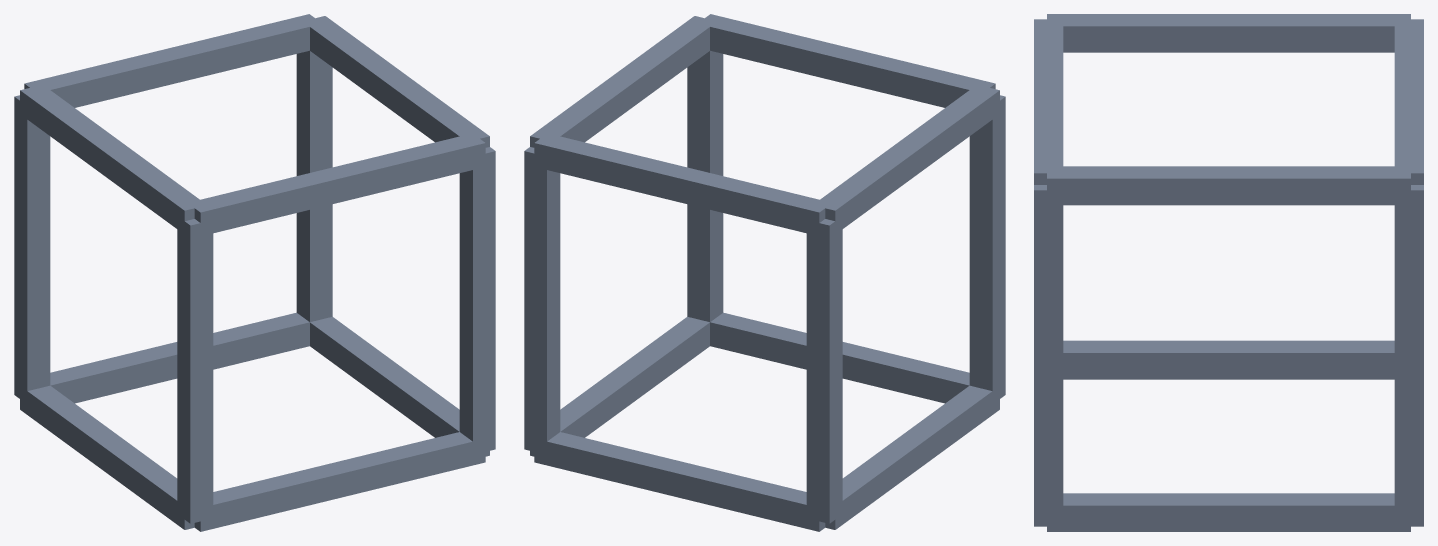
Rendered from chain_lock_cage.glb.
3 renders of one model, left to right at view 1: azimuth 30°, elevation 25°; view 2: azimuth 150°, elevation 25°; view 3: azimuth 270°, elevation 25°, orthographic. The views are drawn at different scales.
Visible parts, largest first — view 1: ChainLockCage; view 2: ChainLockCage; view 3: ChainLockCage.
Boxes of the visible parts, <box> form: ChainLockCage: <box>14,14,495,531</box>; ChainLockCage: <box>524,14,1005,531</box>; ChainLockCage: <box>1034,14,1423,531</box>.
Bounding box in the file's own units: 1.13 × 1.13 × 1.13.
